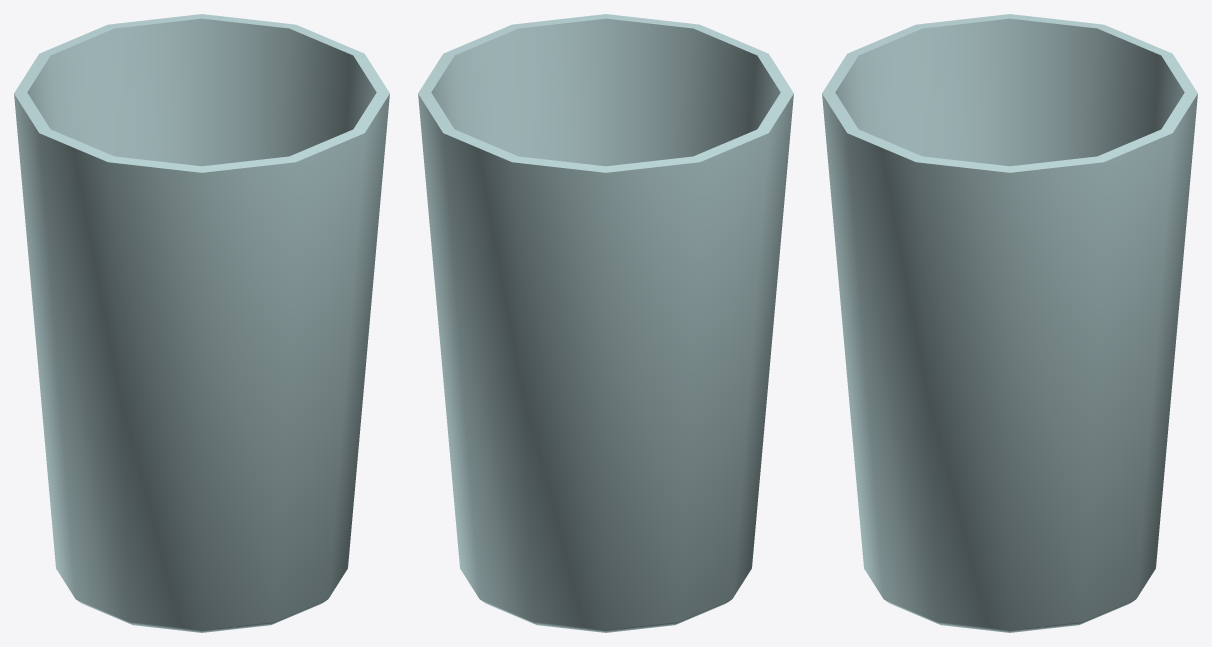
The model's file is Glass.fbx.
The picture shows the model from 3 angles, left to right: view 1: azimuth 30°, elevation 25°; view 2: azimuth 150°, elevation 25°; view 3: azimuth 270°, elevation 25°; orthographic projection.
Visible parts, largest first — view 1: Glass; view 2: Glass; view 3: Glass.
Part boxes in pixels (x1,y1,x2,y2): Glass: (14,14,389,632); Glass: (418,14,793,632); Glass: (822,14,1197,632).
Bounding box in the file's own units: 0.085 × 0.1202 × 0.085.
